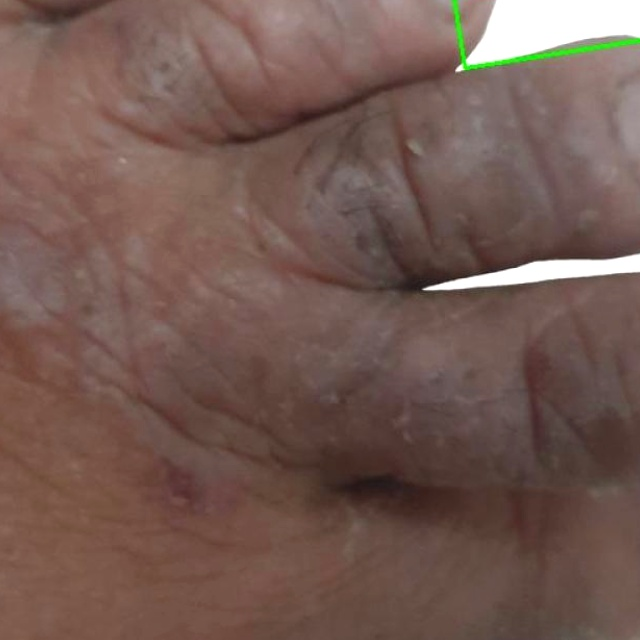Eczema: (452, 0, 639, 69)
